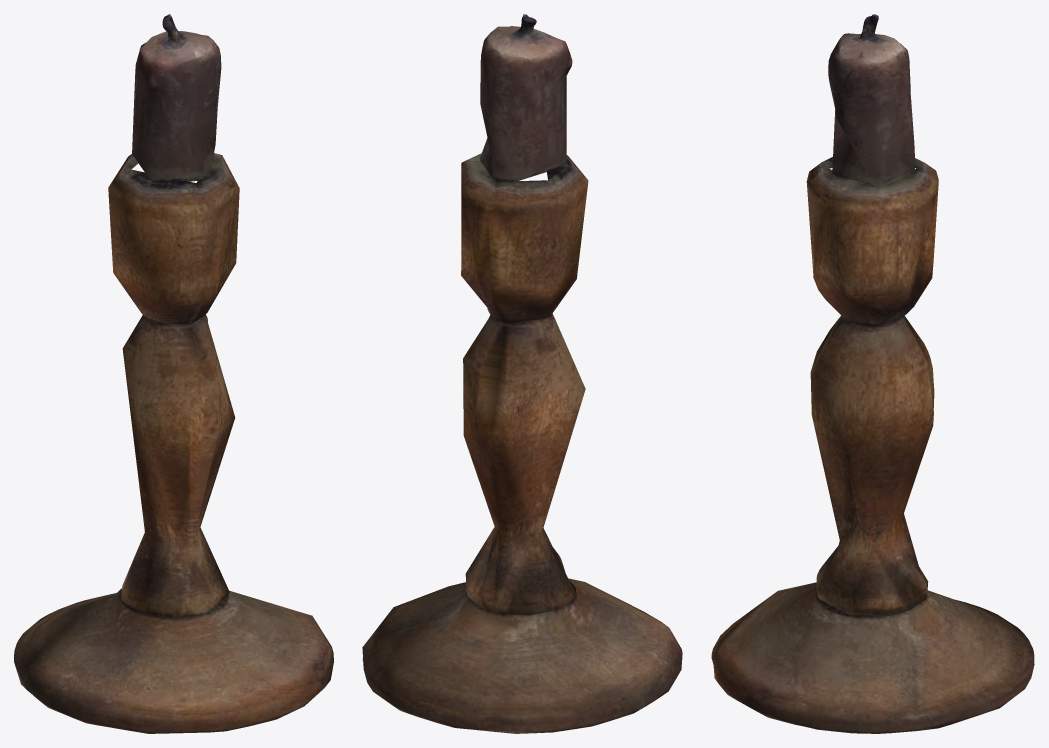
The model's file is wooden_candlestick.glb.
3 views of the same model, side by side, from view 1: azimuth 30°, elevation 25°; view 2: azimuth 150°, elevation 25°; view 3: azimuth 270°, elevation 25° (orthographic).
Visible parts, largest first — view 1: wooden_candlestick; view 2: wooden_candlestick; view 3: wooden_candlestick.
Part boxes in pixels (box(x1,y1,x2,y2)): wooden_candlestick: box(14, 14, 333, 733); wooden_candlestick: box(362, 14, 682, 733); wooden_candlestick: box(711, 14, 1034, 733).
Size of the model in its own units: 0.0971 by 0.2196 by 0.0986.
1 material, 1 textured.
